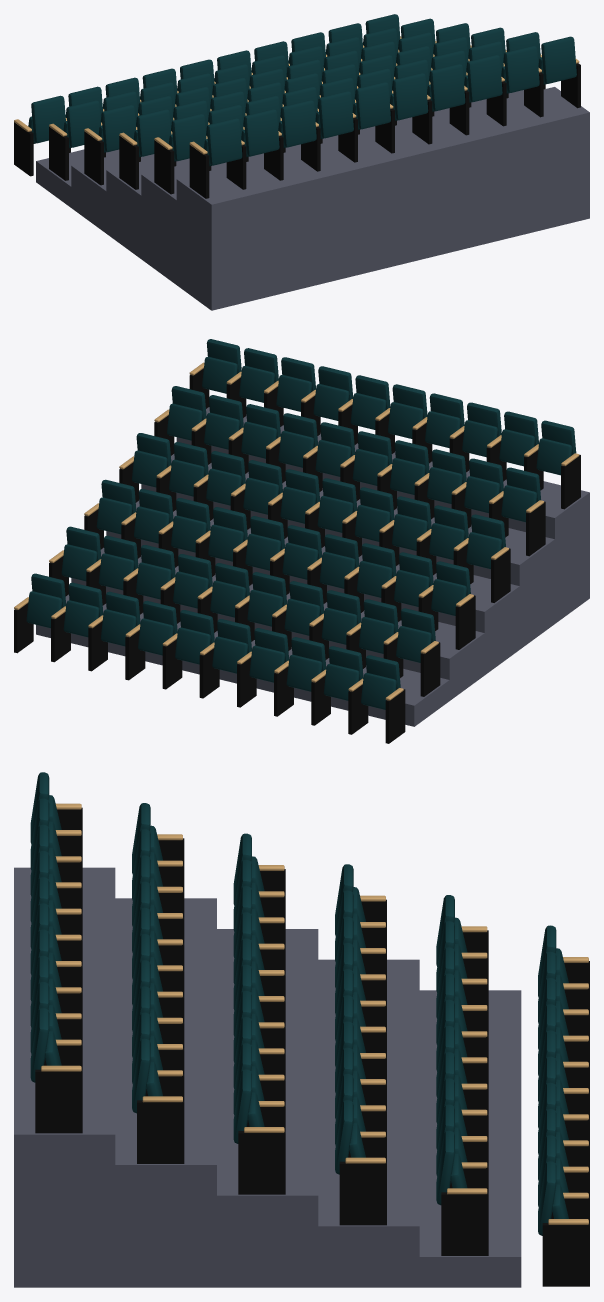
The model's file is venue.seat.cinema_block_10x6.glb.
3 views of the same model, one above another, from view 1: azimuth 30°, elevation 25°; view 2: azimuth 150°, elevation 25°; view 3: azimuth 270°, elevation 25° (orthographic). The views are drawn at different scales.
Visible parts, largest first — view 1: main__carpet, main__velvet_teal, main__plastic_black, main__glulam; view 2: main__velvet_teal, main__plastic_black, main__carpet, main__glulam; view 3: main__carpet, main__plastic_black, main__velvet_teal, main__glulam.
Part boxes in pixels (bbox=[...]): main__carpet: bbox=[36, 87, 589, 310]; main__velvet_teal: bbox=[28, 14, 576, 166]; main__plastic_black: bbox=[14, 63, 580, 198]; main__glulam: bbox=[14, 36, 579, 154]; main__velvet_teal: bbox=[26, 339, 576, 709]; main__plastic_black: bbox=[14, 368, 580, 743]; main__carpet: bbox=[36, 407, 589, 726]; main__glulam: bbox=[14, 362, 579, 700]; main__carpet: bbox=[14, 867, 521, 1287]; main__plastic_black: bbox=[35, 807, 589, 1286]; main__velvet_teal: bbox=[30, 772, 568, 1235]; main__glulam: bbox=[41, 803, 588, 1224].
Size of the model in its own units: 5.6 by 2.49 by 5.11.
